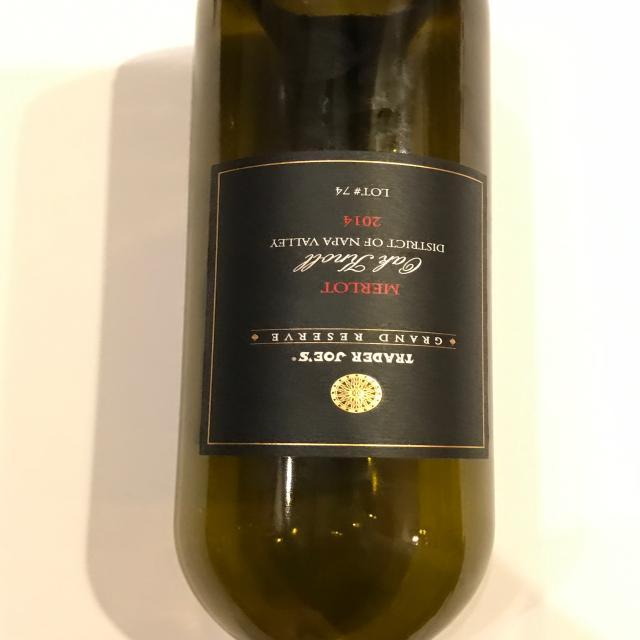glass: (193, 0, 496, 640)
